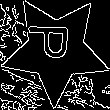P_E: (31, 30, 81, 70)
